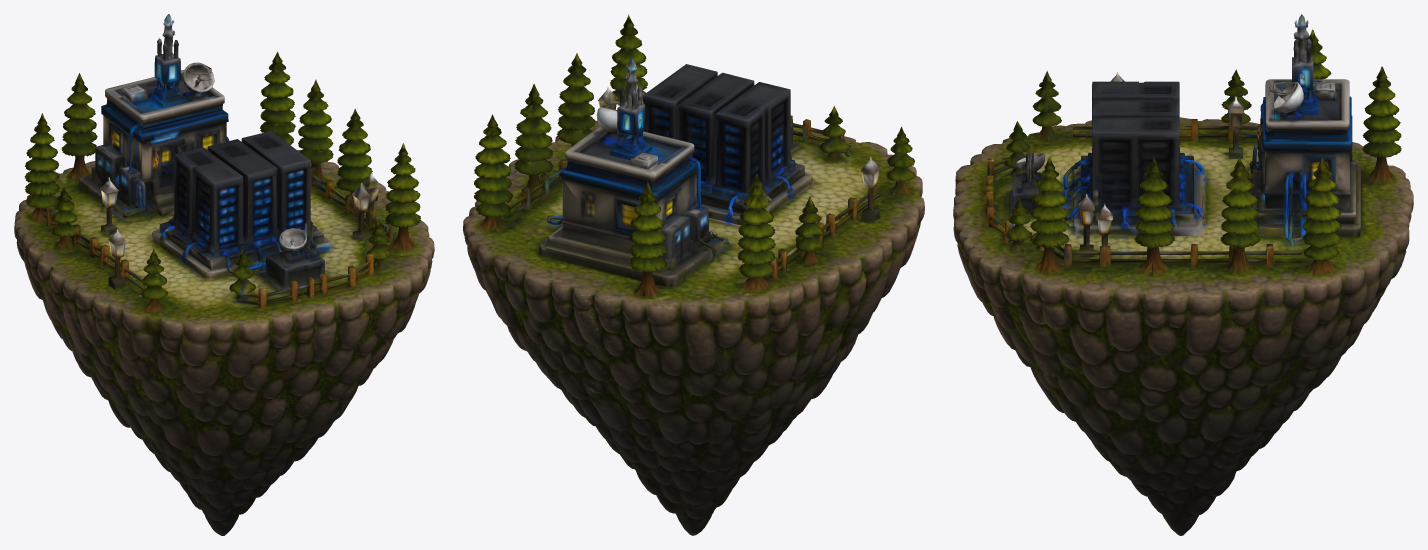
The model's file is server.glb.
3 renders of one model, left to right at view 1: azimuth 30°, elevation 25°; view 2: azimuth 150°, elevation 25°; view 3: azimuth 270°, elevation 25°, orthographic. The views are drawn at different scales.
Parts seen in each view (by area): view 1: node_0; view 2: node_0; view 3: node_0.
Part boxes in pixels (box(x1,y1,x2,y2)): node_0: box(14, 14, 434, 535); node_0: box(463, 14, 924, 535); node_0: box(953, 14, 1413, 535).
Bounding box in the file's own units: 0.8252 × 1.11 × 0.8875.
Materials: 1 (1 with a texture image).
